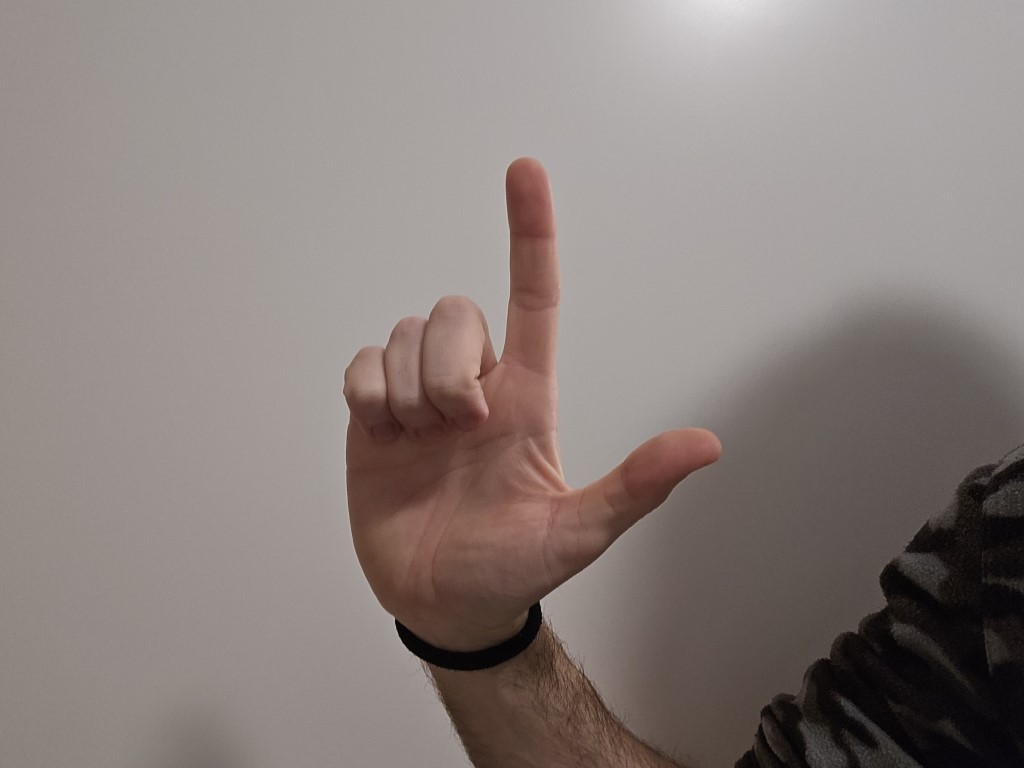l: (311, 148, 745, 628)
